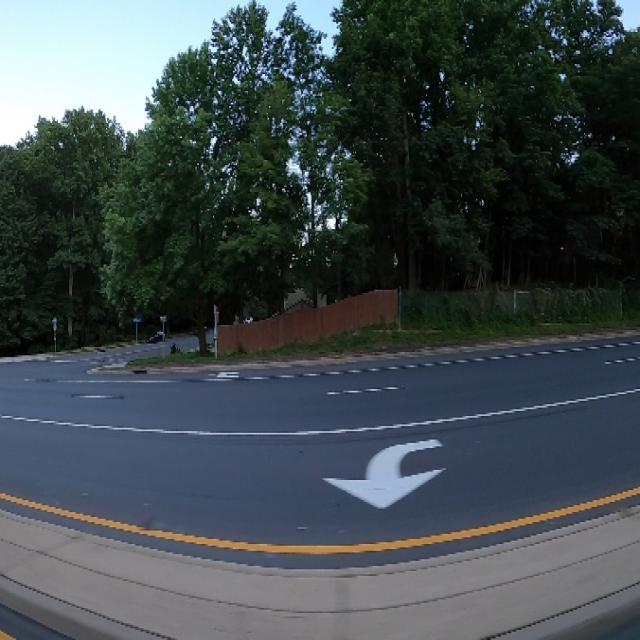cars: (147, 323, 165, 346)
